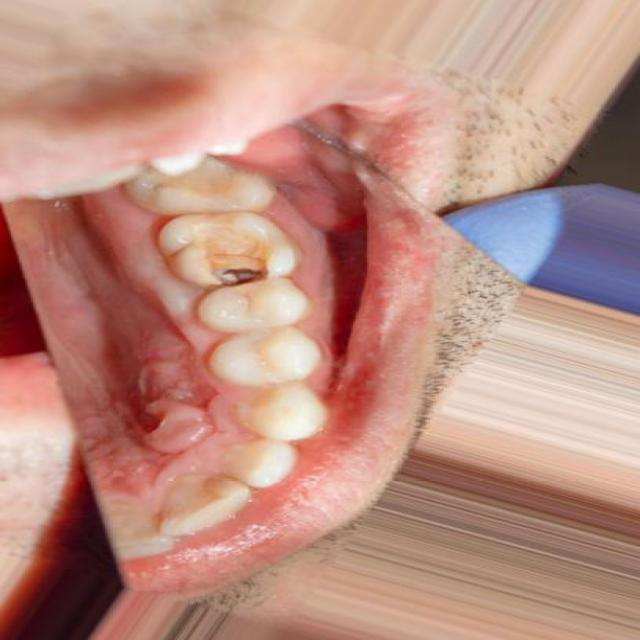caries: (186, 220, 289, 296)
